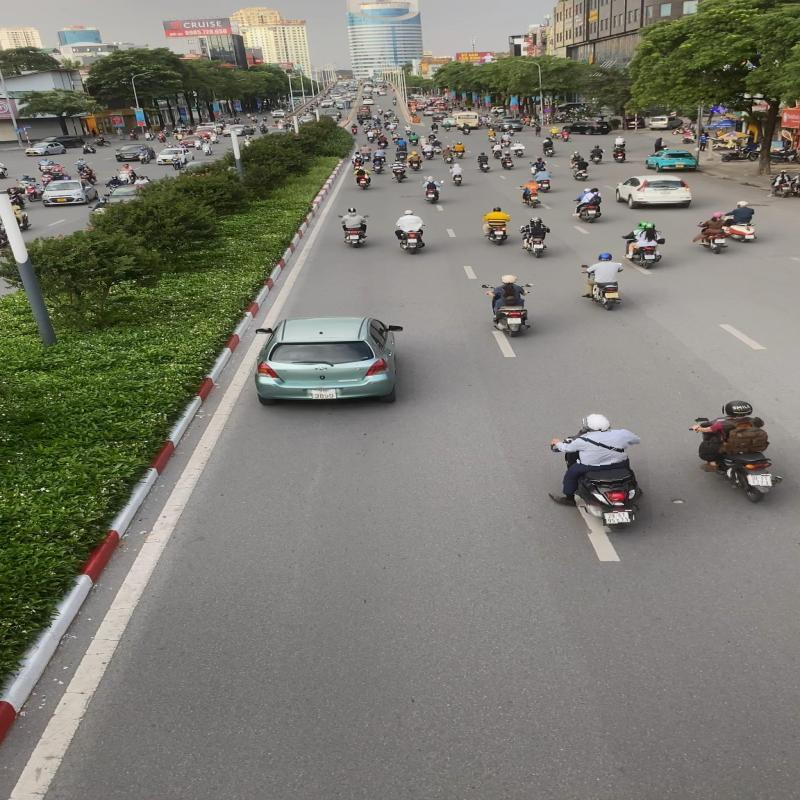helmet: (584, 411, 613, 432), (724, 400, 754, 416)
licenseplate: (746, 473, 776, 488), (602, 512, 633, 526)
motorcyclist: (548, 407, 650, 535), (686, 397, 788, 506)
